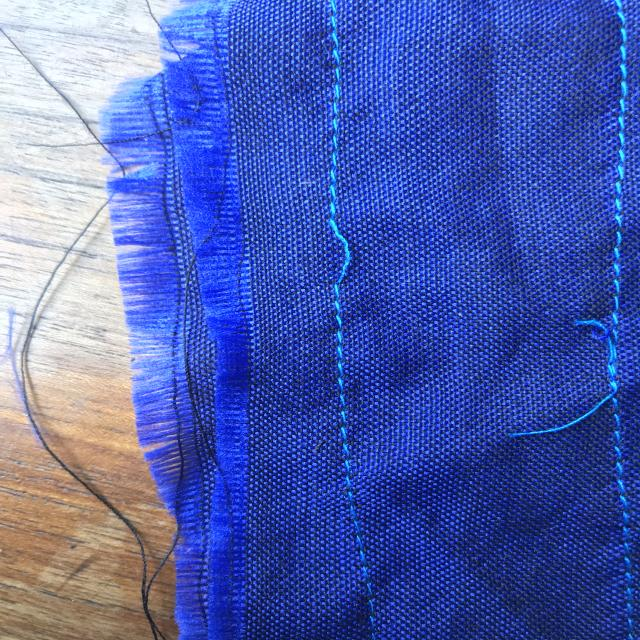good: (320, 370, 383, 482)
skip: (299, 192, 373, 298)
